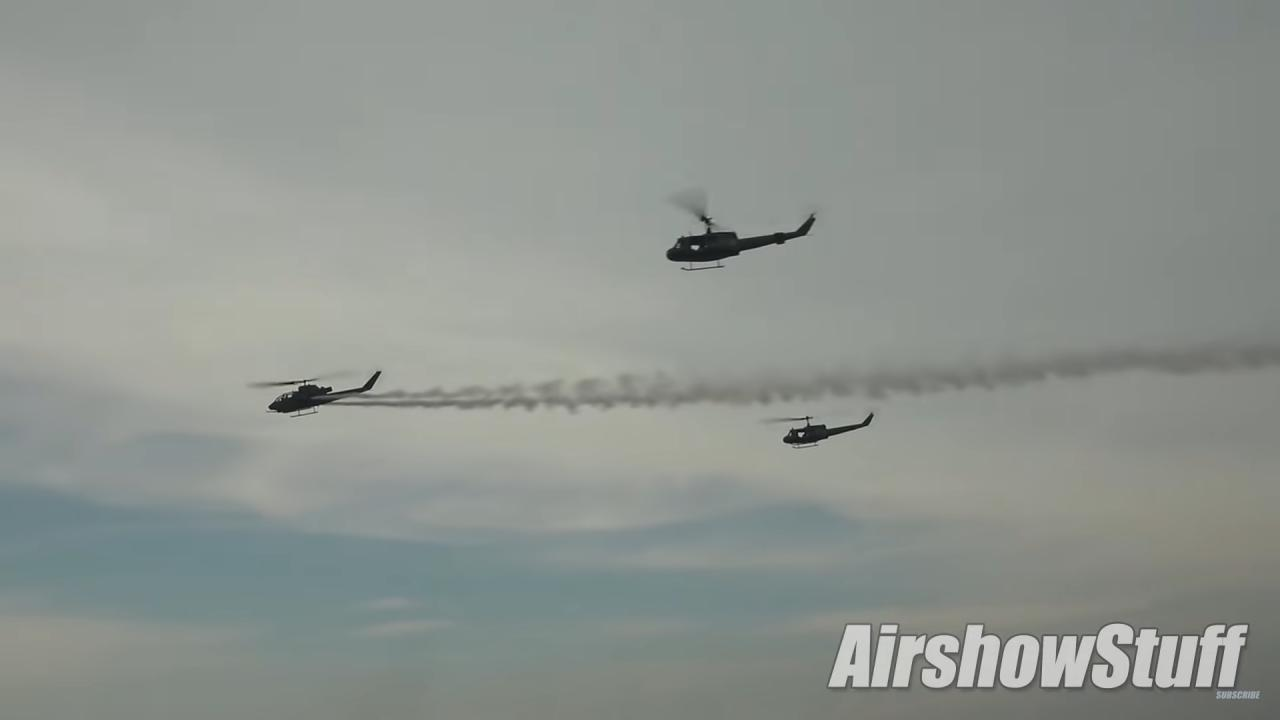Helicopter: (620, 165, 846, 300), (231, 343, 405, 445), (748, 395, 894, 470)
